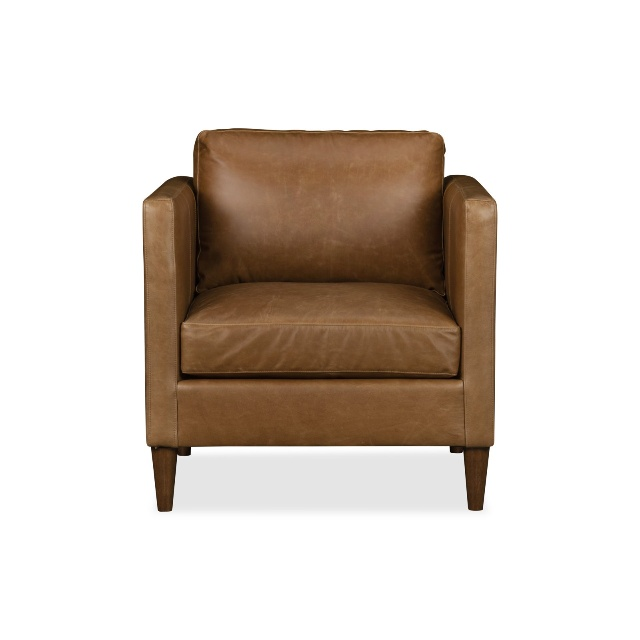obstacle: (143, 129, 496, 510)
